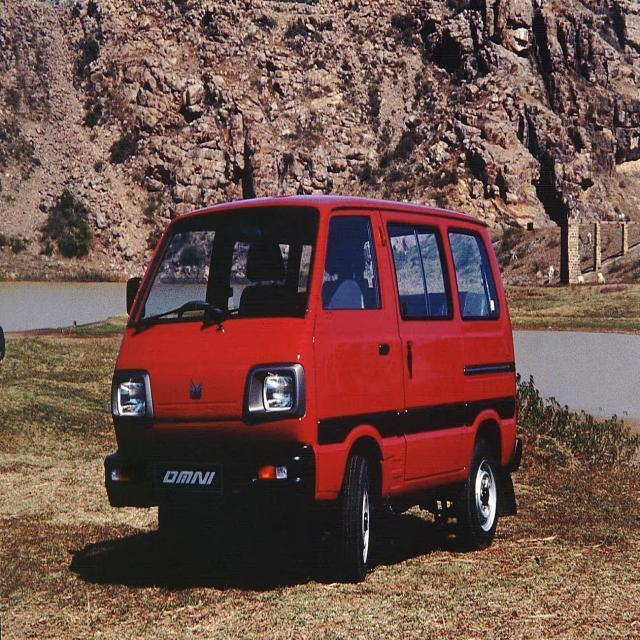Ambulance: (101, 198, 522, 591)
